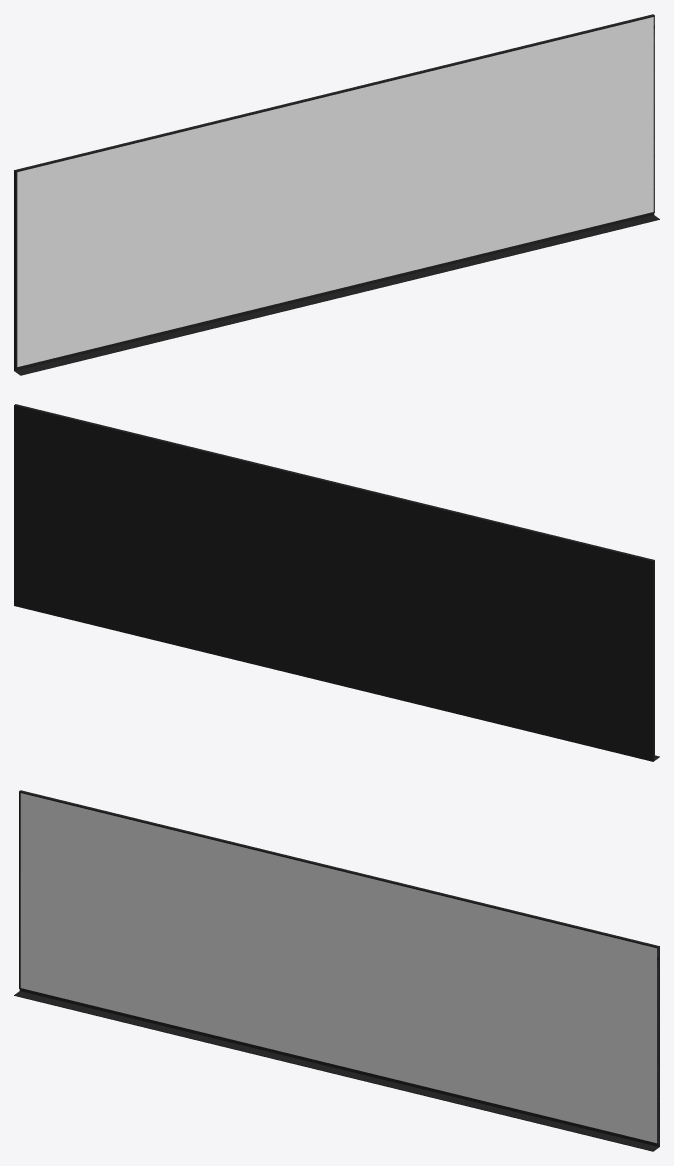
Rendered from tableau.fbx.
3 renders of one model, top to bottom at view 1: azimuth 30°, elevation 25°; view 2: azimuth 150°, elevation 25°; view 3: azimuth 330°, elevation 25°, orthographic.
Visible parts, largest first — view 1: Cube; view 2: Cube; view 3: Cube.
Part boxes in pixels (left/top/right/bottom): Cube: left=14, top=14, right=659, bottom=375; Cube: left=14, top=404, right=659, bottom=761; Cube: left=14, top=790, right=659, bottom=1151.
Bounding box in the file's own units: 400 × 120 × 7.2.
